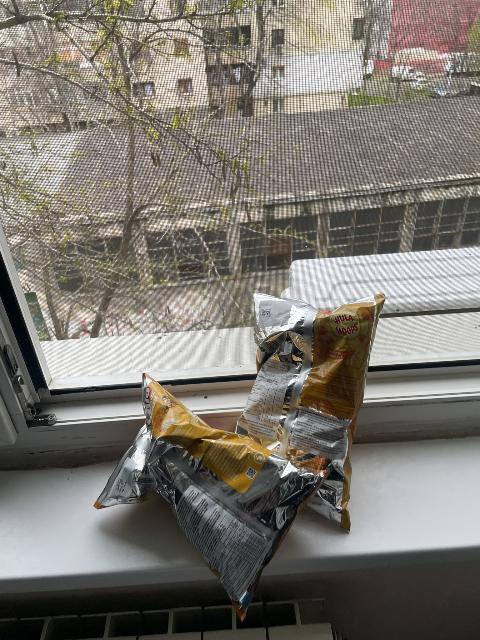Chio Cascaval 125g: (90, 371, 329, 621)
Chio Hula Hoops Cheese 70g: (240, 291, 390, 538)
